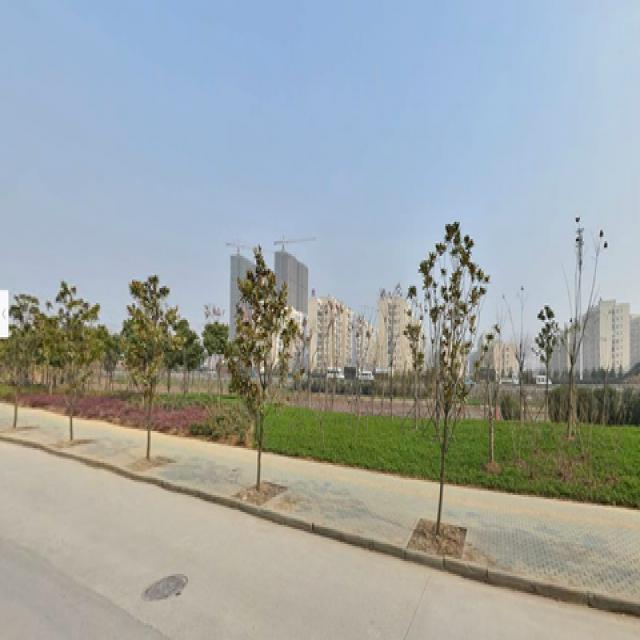magn: (412, 260, 467, 525), (115, 280, 176, 450), (246, 275, 278, 482), (51, 292, 89, 433)
